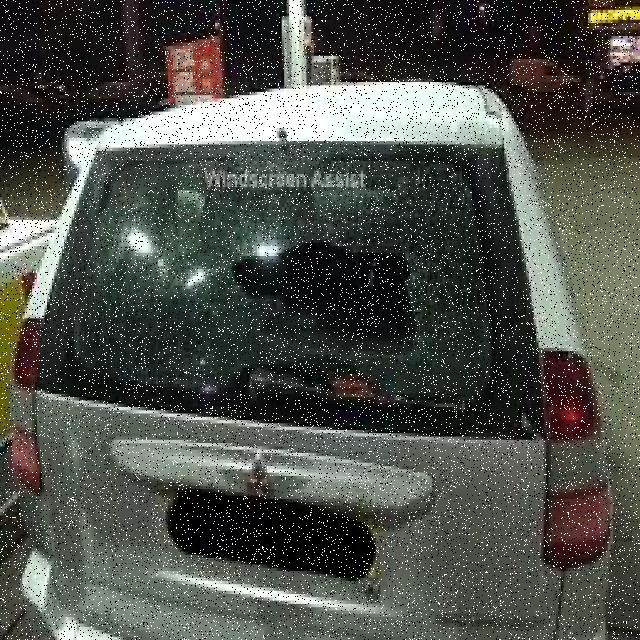Rear-windscreen-Damage: (57, 138, 539, 430)
